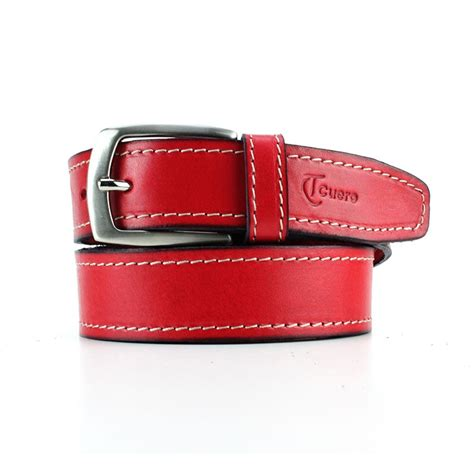cuero: (66, 132, 431, 344)
